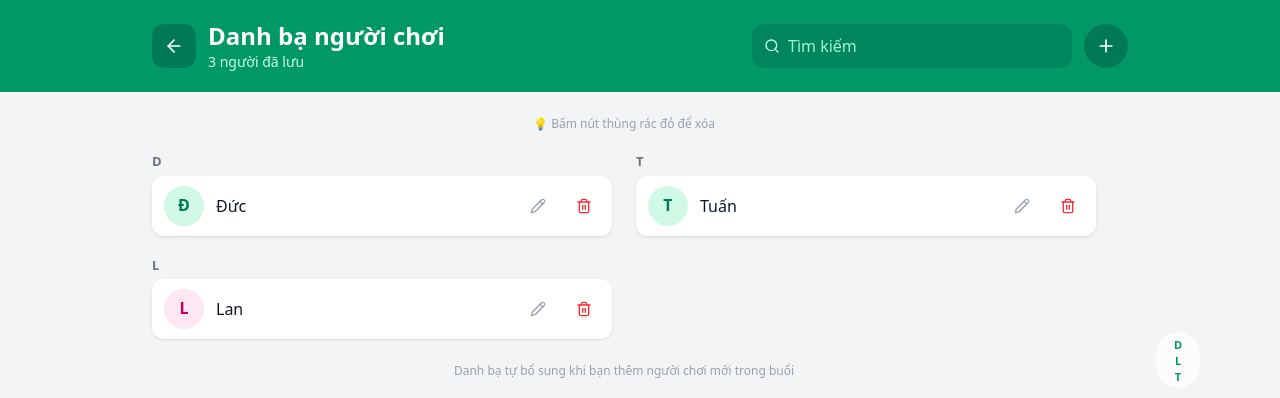
Test: search filters by name, ignoring diacritics and case
In the search field named "Tìm trong danh bạ": {"x": 912, "y": 46} [752,24,1072,68], type "DUC"
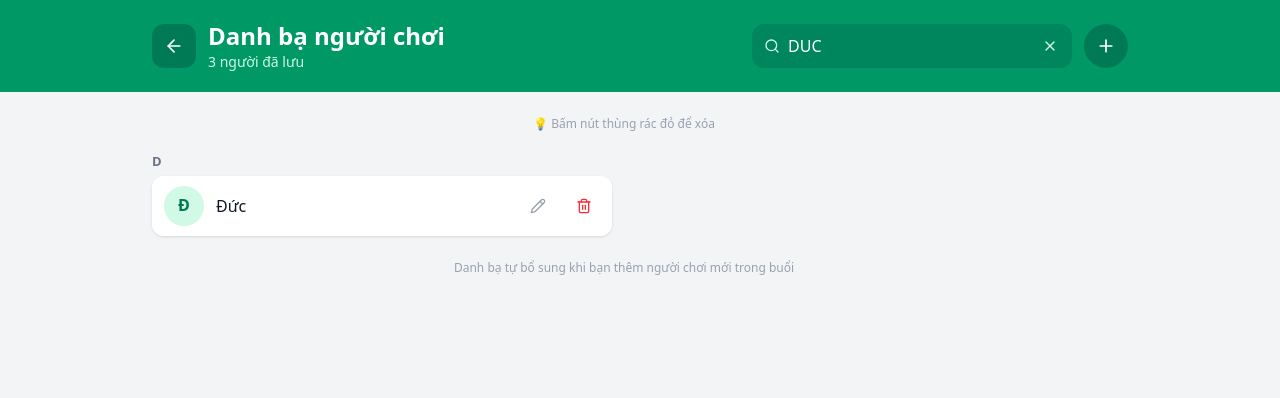
Check: the text "Đức" is shown, box [216,194,246,218]
Check: the button "Lan" is gone
